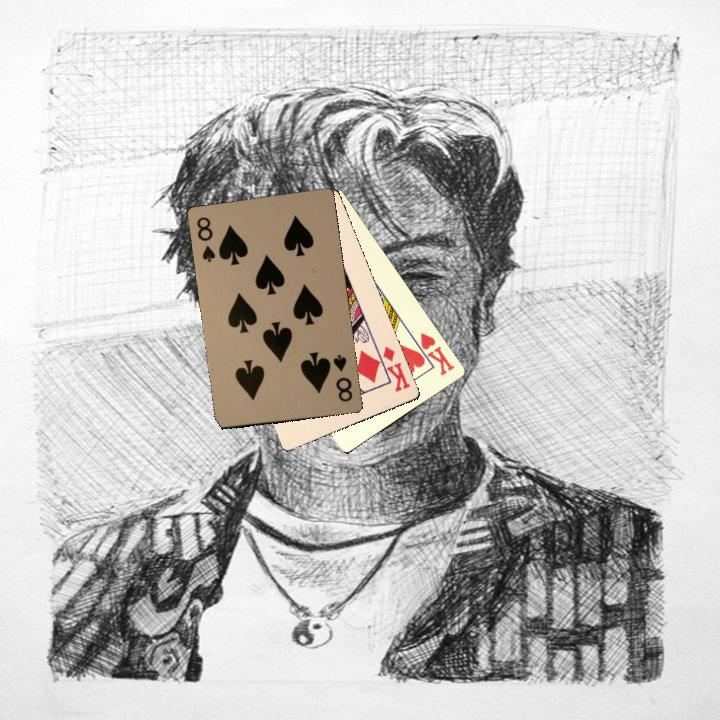8s: (329, 351, 355, 404), (193, 213, 218, 265)
Kd: (372, 343, 413, 394)
Kh: (409, 328, 457, 378)
